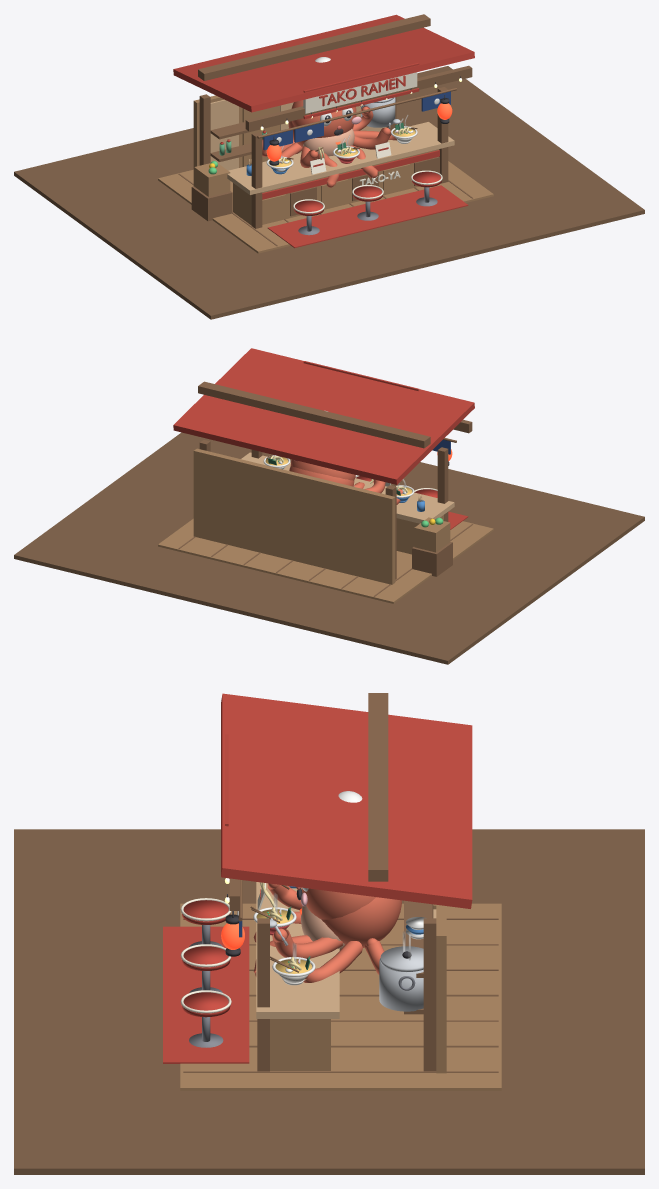
The model's file is octopus_ramen_booth.glb.
3 renders of one model, top to bottom at view 1: azimuth 30°, elevation 25°; view 2: azimuth 150°, elevation 25°; view 3: azimuth 270°, elevation 25°, orthographic. The views are drawn at different scales.
Parts seen in each view (by area): view 1: Ground, RoofMain, Carpet, Deck, CounterTop, RoofRidge, RoofFrontTrim, CounterBody, SignBoard, BackPanel_0, CounterFrontStripe, Post_-3.0_-1.15 (+16 smaller); view 2: Ground, RoofMain, BackWall, Deck, RoofRidge, CounterTop, Crate, Crate2, Post_-3.0_-1.15, CounterBody, OctoHead; view 3: Ground, RoofMain, Deck, Carpet, CounterTop, RoofRidge, CounterBody, OctoHead.001, Post_3.0_1.75, Post_3.0_-1.15, BackWall, StockPot (+9 smaller).
Boxes of the visible parts, box(x1,y1,x2,y2) form: Ground: box(14, 66, 644, 319); RoofMain: box(173, 14, 474, 112); Carpet: box(267, 185, 468, 248); Deck: box(158, 124, 493, 253); CounterTop: box(227, 122, 454, 194); RoofRidge: box(198, 14, 430, 80); RoofFrontTrim: box(245, 65, 472, 131); CounterBody: box(233, 149, 439, 225); SignBoard: box(303, 72, 417, 113); BackPanel_0: box(210, 99, 238, 170); CounterFrontStripe: box(262, 150, 439, 199); Post_-3.0_-1.15: box(251, 132, 262, 228); Ground: box(14, 432, 644, 664); RoofMain: box(173, 348, 474, 484); BackWall: box(193, 448, 395, 584); Deck: box(158, 518, 493, 603); RoofRidge: box(198, 381, 430, 448); CounterTop: box(241, 452, 454, 523); Crate: box(412, 542, 452, 576); Crate2: box(414, 517, 450, 552); Post_-3.0_-1.15: box(437, 447, 448, 521); CounterBody: box(396, 515, 444, 554); OctoHead: box(290, 459, 355, 480); Ground: box(14, 829, 644, 1174); RoofMain: box(221, 693, 472, 908); Deck: box(180, 903, 501, 1090); Carpet: box(163, 926, 249, 1063); CounterTop: box(256, 882, 339, 1018); RoofRidge: box(368, 693, 388, 881); CounterBody: box(270, 1019, 330, 1070); OctoHead.001: box(321, 897, 401, 947); Post_3.0_1.75: box(423, 918, 436, 1071); Post_3.0_-1.15: box(257, 918, 269, 1071); BackWall: box(436, 905, 446, 1073); StockPot: box(379, 958, 423, 1011).
Bounding box in the file's own units: 14 × 4.35 × 11.
